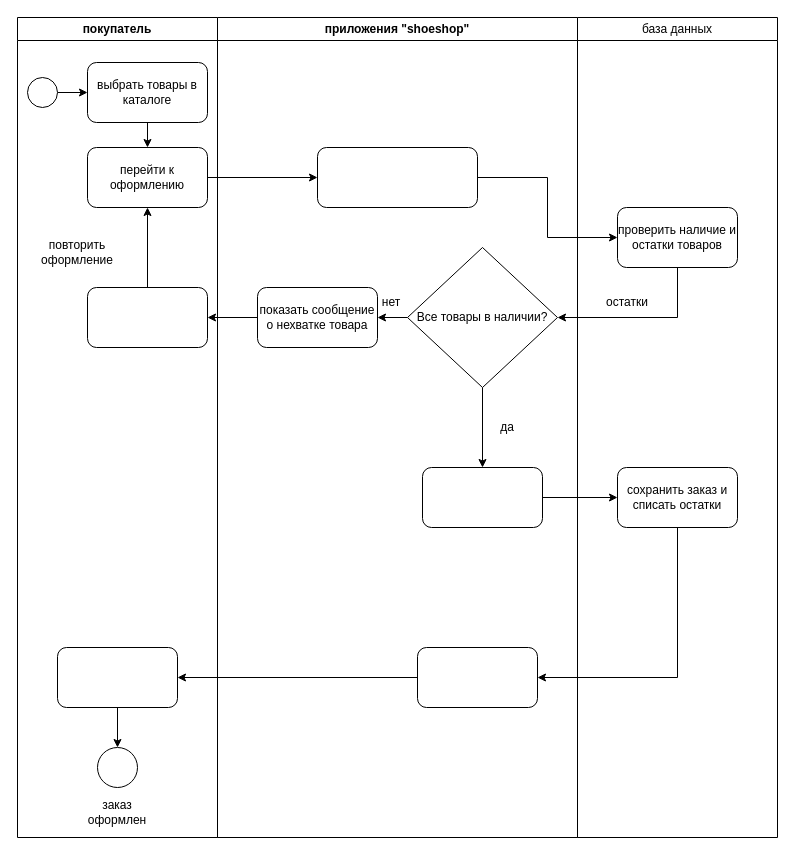
The diagram is 795 pixels wide and 855 high, and some of its shapes have lost their labels. Each missing label, with the centre of its shape:
"запросить актуальные остатки товаров" belongs at point 397,177.
"изменить состав картины" belongs at point 147,317.
"показать подтверждение заказа" belongs at point 477,677.
"получить подтверждение заказа" belongs at point 117,677.
"создать заказ и рассчитать сумму" belongs at point 482,497.
